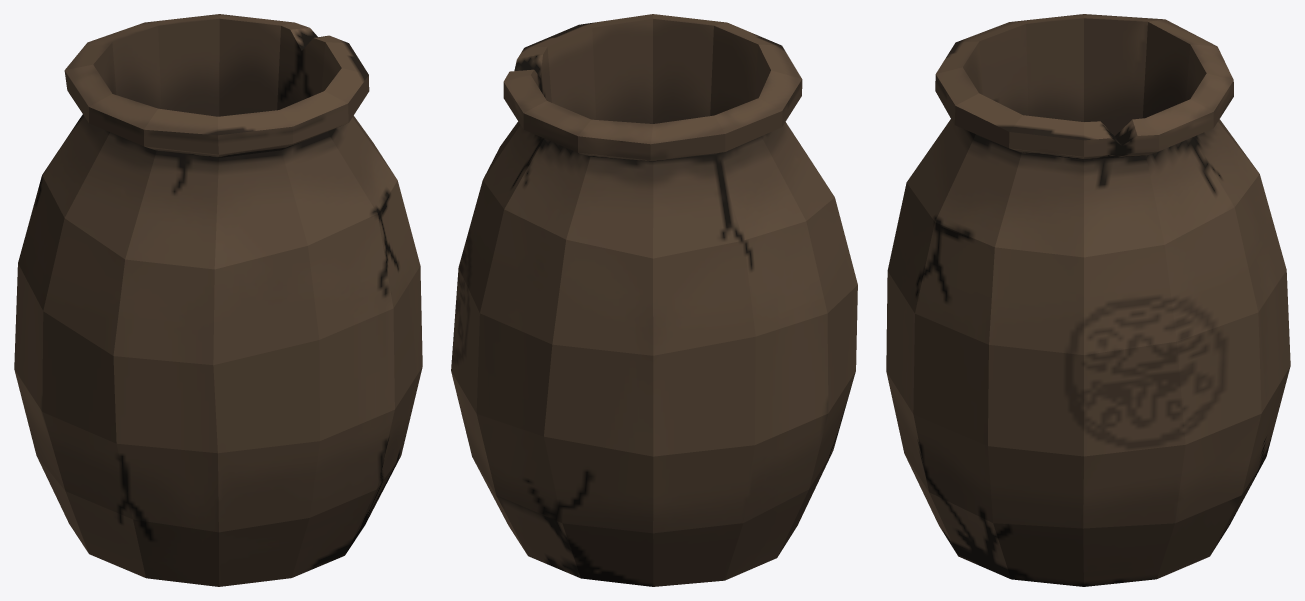
Rendered from Pot.fbx.
The picture shows the model from 3 angles, left to right: view 1: azimuth 30°, elevation 25°; view 2: azimuth 150°, elevation 25°; view 3: azimuth 270°, elevation 25°; orthographic projection.
Parts seen in each view (by area): view 1: Cylinder; view 2: Cylinder; view 3: Cylinder.
Boxes of the visible parts, bbox=[...] form: Cylinder: bbox=[14, 14, 422, 586]; Cylinder: bbox=[451, 14, 857, 586]; Cylinder: bbox=[886, 14, 1290, 586].
Size of the model in its own units: 1.18 by 1.47 by 1.17.
